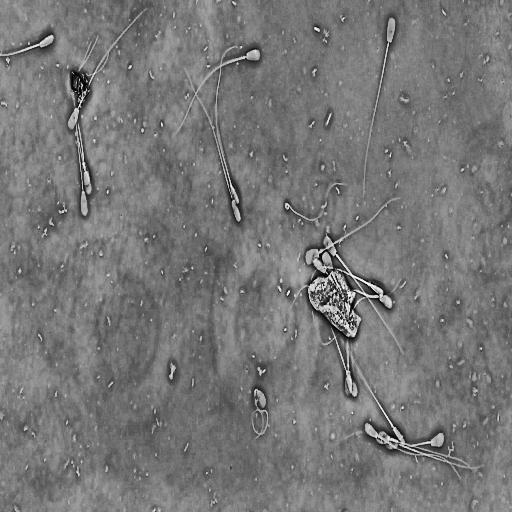coiled-tail: (254, 388, 268, 435), (252, 410, 263, 434)
dirt-particles: (306, 265, 363, 340), (68, 67, 90, 109), (166, 363, 179, 383)
loose-tail: (283, 181, 347, 226)
normal: (68, 7, 149, 131), (180, 64, 242, 224), (323, 235, 403, 352), (168, 46, 263, 142), (338, 332, 406, 445), (361, 13, 397, 211), (305, 198, 399, 265), (364, 422, 462, 479), (214, 44, 241, 207), (378, 431, 472, 471), (69, 84, 88, 216), (0, 31, 55, 59), (251, 386, 269, 437)
